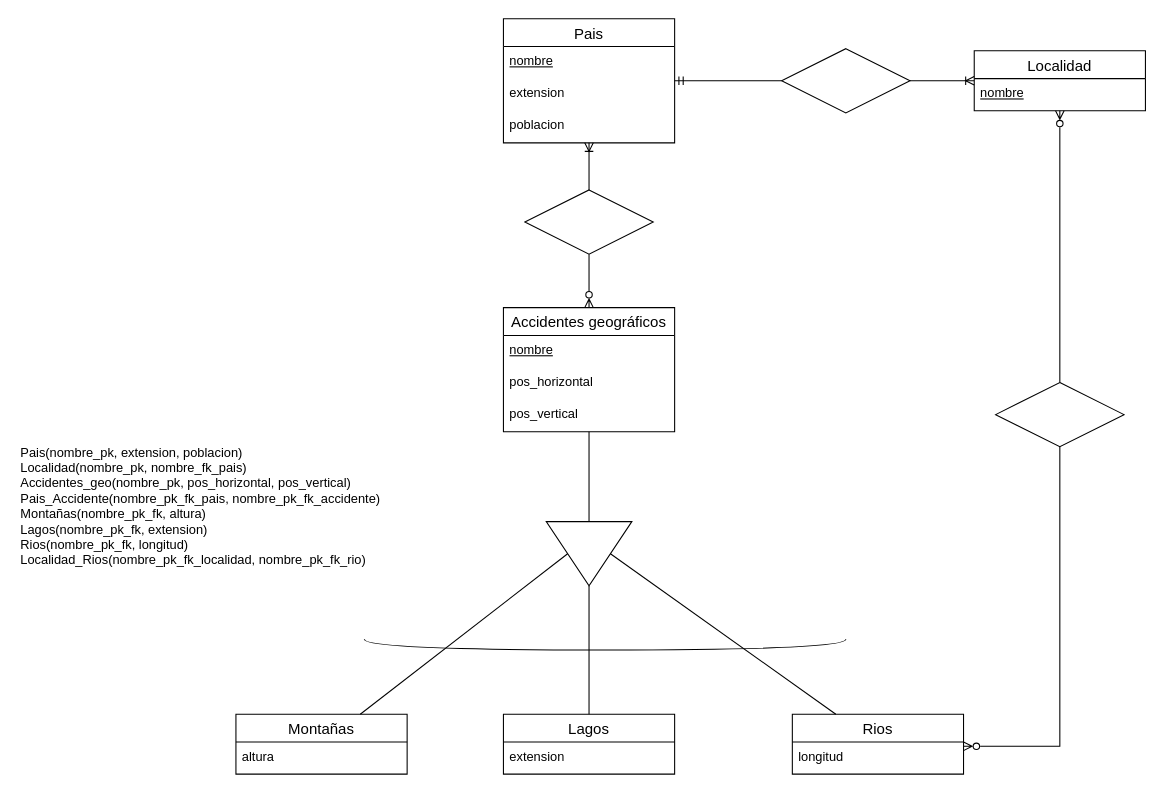
Some shapes in this 1164 by 796 pixel diagram are drawn without their labels. Here are the shapes that lost their labels. From the top down, the centre of each, then its label:
At point (845, 80): "Pertenece".
At point (588, 221): "Estar".
At point (1059, 414): "Pasar".
